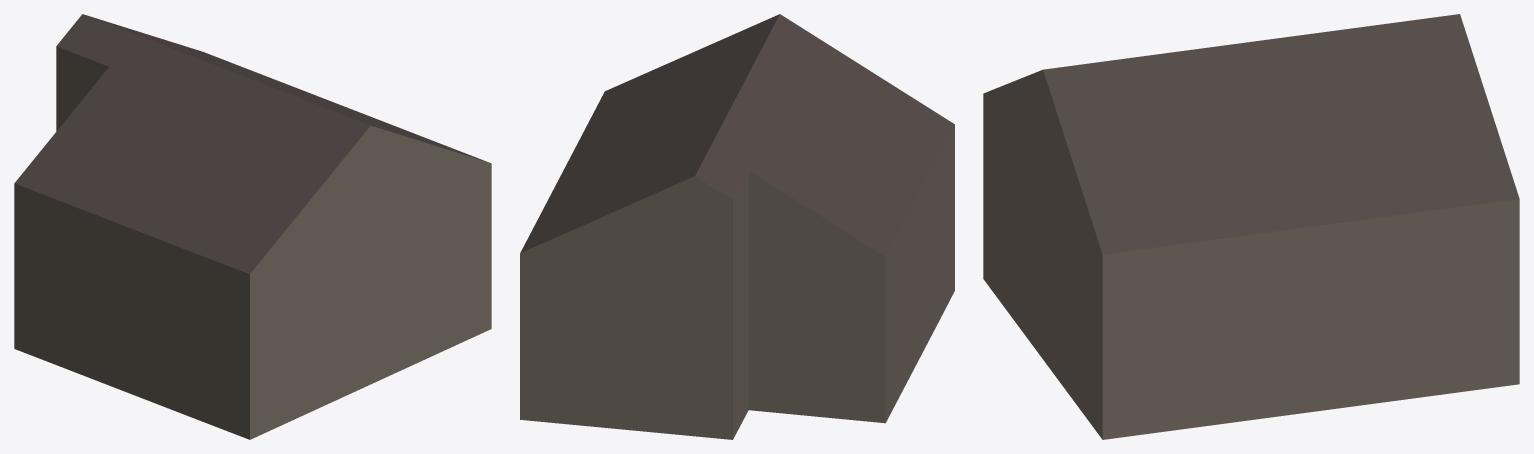
3 renders of one model, left to right at view 1: azimuth 30°, elevation 25°; view 2: azimuth 150°, elevation 25°; view 3: azimuth 270°, elevation 25°, orthographic. The views are drawn at different scales.
Visible parts, largest first — view 1: HP-w1197560025; view 2: HP-w1197560025; view 3: HP-w1197560025.
Boxes of the visible parts, box(x1,y1,x2,y2) form: HP-w1197560025: box(14, 14, 491, 439); HP-w1197560025: box(520, 14, 954, 439); HP-w1197560025: box(983, 14, 1519, 439).
Size of the model in its own units: 14.35 by 9.39 by 15.74.
